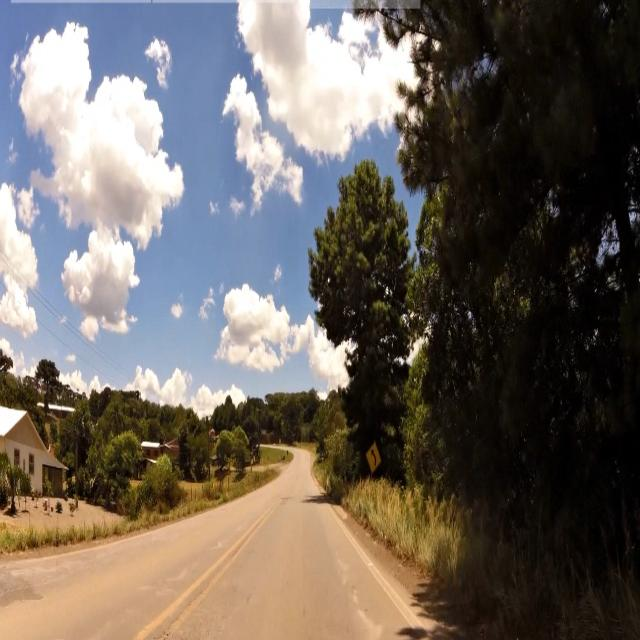A-2a: (364, 442, 384, 476)
